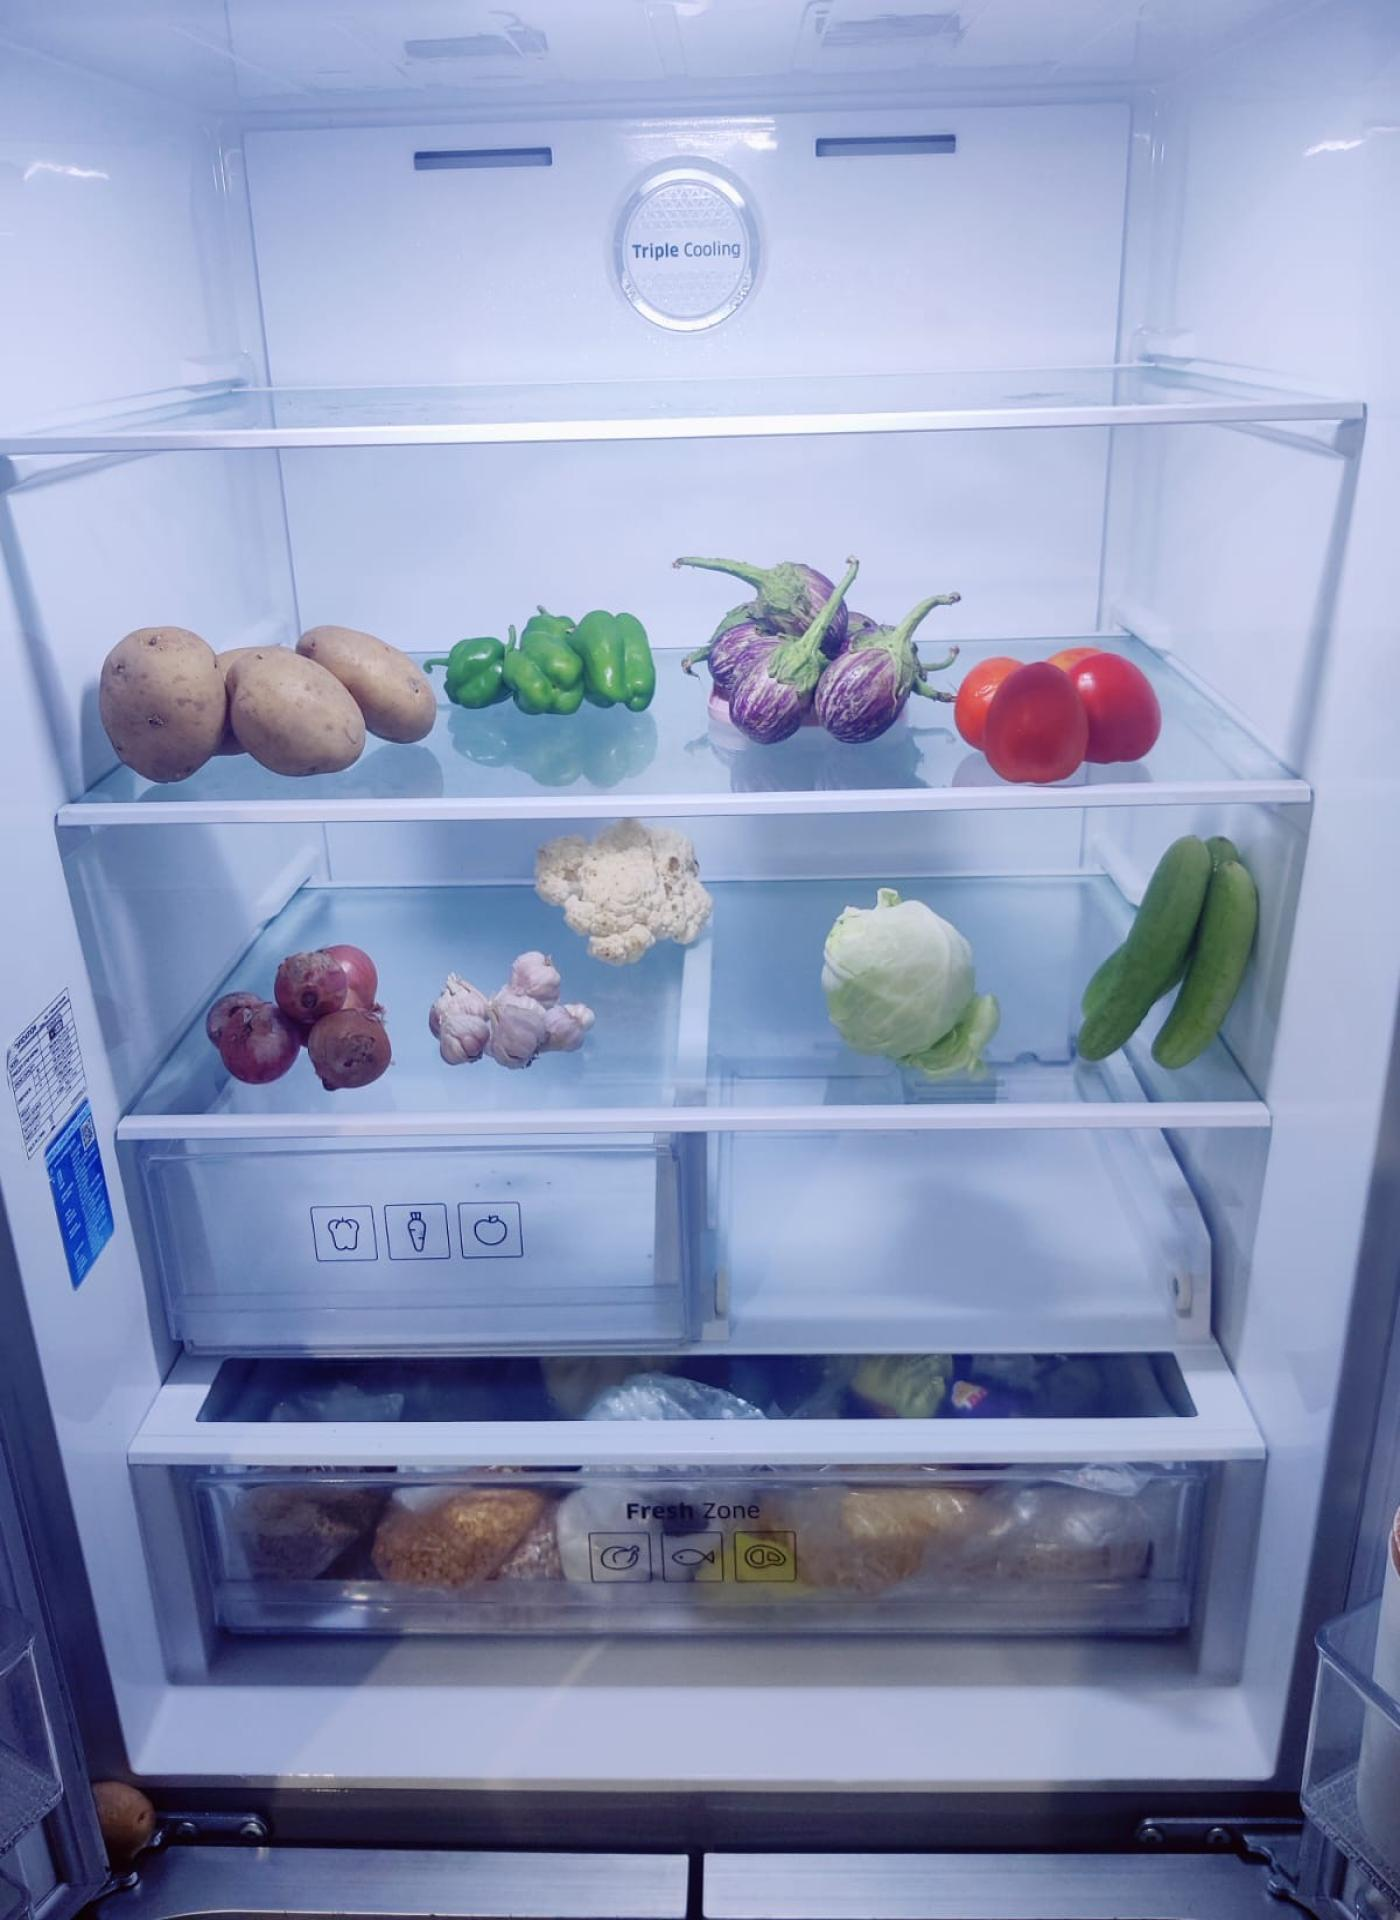brinjal: (705, 559, 914, 742)
cabbage: (826, 884, 999, 1069)
capsicum: (443, 607, 653, 719)
cauliflower: (537, 814, 713, 956)
cucumber: (1069, 821, 1261, 1076)
garlic: (429, 953, 596, 1075)
onion: (212, 944, 400, 1091)
potato: (89, 611, 438, 775)
tomato: (951, 641, 1163, 778)
